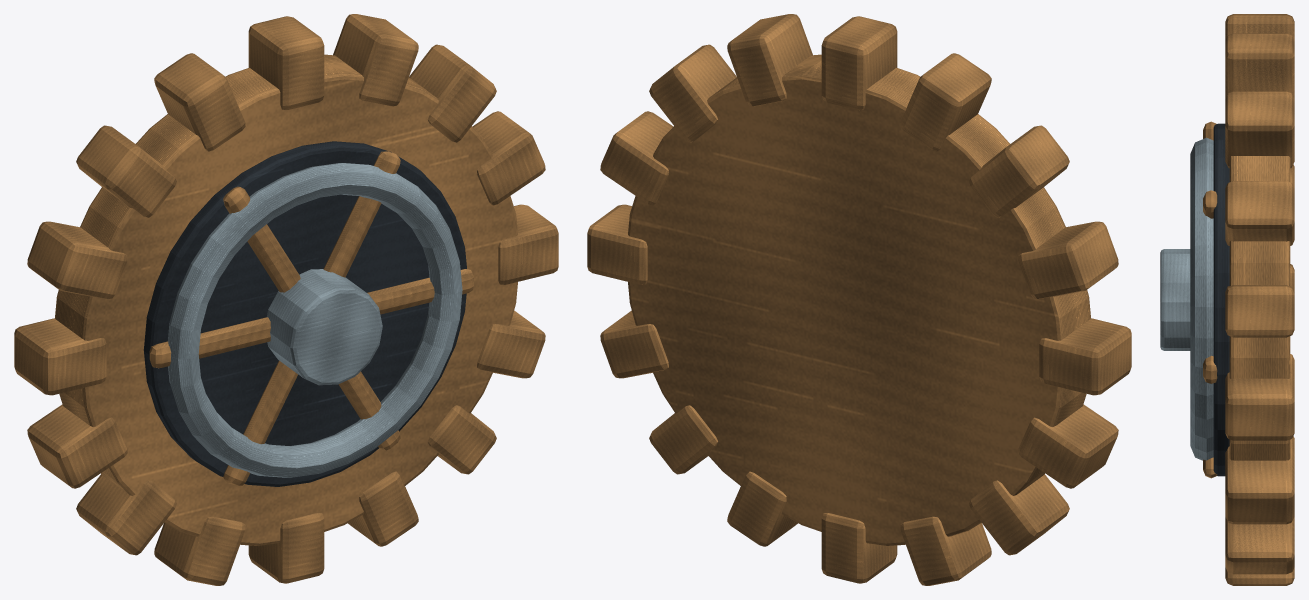
The model's file is gear.glb.
3 renders of one model, left to right at view 1: azimuth 30°, elevation 25°; view 2: azimuth 150°, elevation 25°; view 3: azimuth 270°, elevation 25°, orthographic. The views are drawn at different scales.
Visible parts, largest first — view 1: gear; view 2: gear; view 3: gear.
Boxes of the visible parts, bbox=[...] form: gear: bbox=[14, 14, 558, 585]; gear: bbox=[587, 14, 1131, 585]; gear: bbox=[1160, 14, 1294, 585].
Size of the model in its own units: 2.46 by 2.46 by 0.58.
3 materials, 3 textured.
